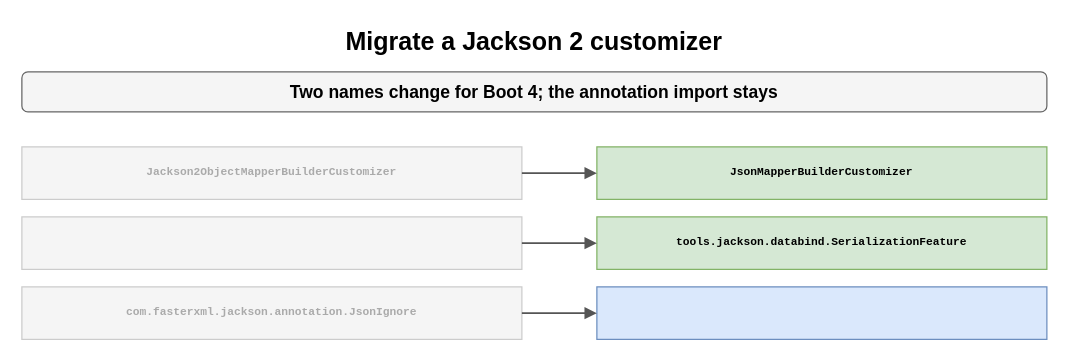
Some shapes in this 1069 by 361 pixel diagram are drawn without their labels. Here are the shapes that lost their labels. From the top down, the box of each, then its label:
(21, 216, 522, 269): com.fasterxml.jackson.databind.SerializationFeature
(596, 286, 1047, 339): unchanged
